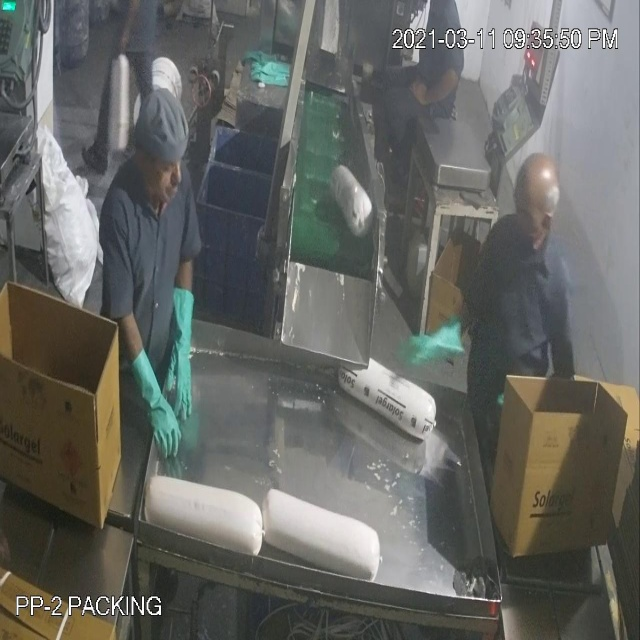Guantes: (164, 274, 209, 428), (394, 309, 473, 383), (131, 348, 183, 458)
Sin_guantes: (408, 58, 465, 126)
